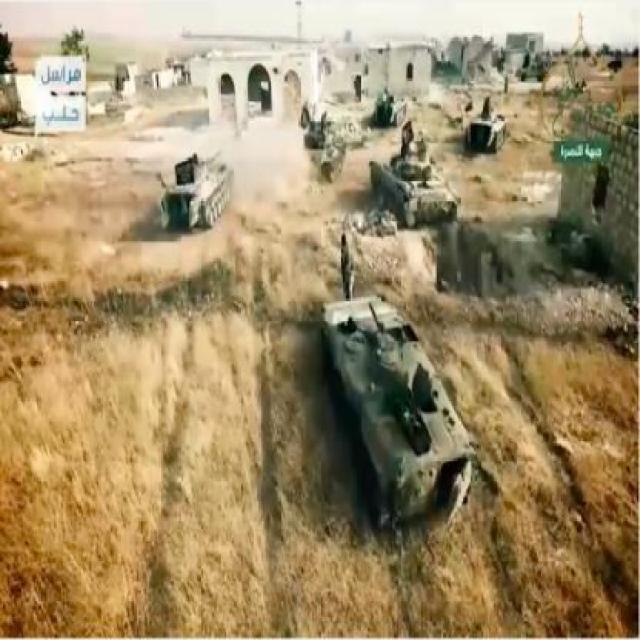MIL_MBT: (319, 293, 475, 538), (370, 122, 459, 240), (161, 151, 233, 232), (466, 96, 508, 156), (301, 102, 335, 148), (368, 92, 404, 125)
